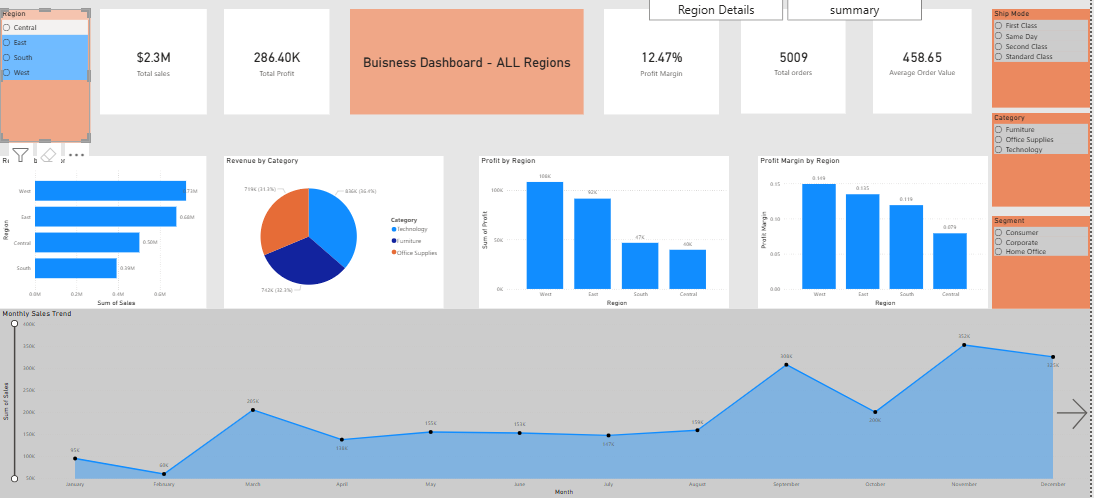

What the dashboard file says about the page in this screenshot:
{"tool":"powerbi","page":{"name":"Dashboard ","canvas":[2400,1100],"ordinal":0},"visuals":[{"type":"clusteredBarChart","title":"Revenue by Region","fields":{"Category":["superstore.Region"],"Y":["Sum(superstore.Sales)"]},"box":[0,348.4,454.2,335.5],"z":0},{"type":"pieChart","title":"Revenue by Category","fields":{"Category":["superstore.Category"],"Y":["Sum(superstore.Sales)"]},"box":[492.9,348.4,482.6,335.5],"z":1000},{"type":"lineChart","title":"Monthly Sales Trend","fields":{"Category":["superstore.Order Date.Variation.Date Hierarchy.Month"],"Y":["Sum(superstore.Sales)"]},"box":[0,683.9,2400,415.5],"z":2000},{"type":"listSlicer","fields":{"Values":["superstore.Region"]},"box":[0,23.2,198.7,294.2],"z":3000},{"type":"columnChart","title":"Profit by Region","fields":{"Category":["superstore.Region"],"Y":["Sum(superstore.Profit)"]},"box":[1052.9,348.4,549.7,335.5],"z":4000},{"type":"card","fields":{"Values":["superstore.Total sales"]},"box":[219.4,23.2,234.8,232.3],"z":5000},{"type":"card","fields":{"Values":["superstore.Total Profit"]},"box":[492.9,23.2,232.3,232.3],"z":6000},{"type":"card","fields":{"Values":["superstore.Profit Margin"]},"box":[1329,23.2,252.9,232.3],"z":7000},{"type":"card","fields":{"Values":["superstore.Total orders"]},"box":[1631,23.2,229.7,229.7],"z":8000},{"type":"card","fields":{"Values":["superstore.Average Order Value"]},"box":[1920,23.2,216.8,229.7],"z":9000},{"type":"clusteredColumnChart","fields":{"Category":["superstore.Region"],"Y":["superstore.Profit Margin"]},"box":[1667.1,348.4,505.8,335.5],"z":10000},{"type":"card","fields":{"Values":["superstore.Dashboard Title"]},"box":[769,23.2,513.5,232.3],"z":11000},{"type":"listSlicer","fields":{"Values":["superstore.Ship Mode"]},"box":[2183.2,23.2,216.8,216.8],"z":12000},{"type":"listSlicer","fields":{"Values":["superstore.Category"]},"box":[2183.2,252.9,216.8,206.5],"z":13000},{"type":"listSlicer","fields":{"Values":["superstore.Segment"]},"box":[2183.2,480,216.8,203.9],"z":14000},{"type":"actionButton","box":[2317.4,856.8,82.6,131.6],"z":15000},{"type":"pageNavigator","box":[1427.5,0,600,49.1],"z":15001}]}

Visuals, with their boxes on the page's 2400x1100 design canvas (x1, y1, x2, y2). These are canvas units, not pixel positions in the 1094x498 screenshot, which may show the page scaled, cropped or inside an application window:
"Revenue by Region" clusteredBarChart: {"x1": 0, "y1": 348, "x2": 454, "y2": 684}
"Revenue by Category" pieChart: {"x1": 493, "y1": 348, "x2": 976, "y2": 684}
"Monthly Sales Trend" lineChart: {"x1": 0, "y1": 684, "x2": 2400, "y2": 1099}
listSlicer - superstore.Region: {"x1": 0, "y1": 23, "x2": 199, "y2": 317}
"Profit by Region" columnChart: {"x1": 1053, "y1": 348, "x2": 1603, "y2": 684}
card - superstore.Total sales: {"x1": 219, "y1": 23, "x2": 454, "y2": 256}
card - superstore.Total Profit: {"x1": 493, "y1": 23, "x2": 725, "y2": 256}
card - superstore.Profit Margin: {"x1": 1329, "y1": 23, "x2": 1582, "y2": 256}
card - superstore.Total orders: {"x1": 1631, "y1": 23, "x2": 1861, "y2": 253}
card - superstore.Average Order Value: {"x1": 1920, "y1": 23, "x2": 2137, "y2": 253}
clusteredColumnChart - superstore.Region x superstore.Profit Margin: {"x1": 1667, "y1": 348, "x2": 2173, "y2": 684}
card - superstore.Dashboard Title: {"x1": 769, "y1": 23, "x2": 1282, "y2": 256}
listSlicer - superstore.Ship Mode: {"x1": 2183, "y1": 23, "x2": 2400, "y2": 240}
listSlicer - superstore.Category: {"x1": 2183, "y1": 253, "x2": 2400, "y2": 459}
listSlicer - superstore.Segment: {"x1": 2183, "y1": 480, "x2": 2400, "y2": 684}
actionButton: {"x1": 2317, "y1": 857, "x2": 2400, "y2": 988}
pageNavigator: {"x1": 1428, "y1": 0, "x2": 2028, "y2": 49}
